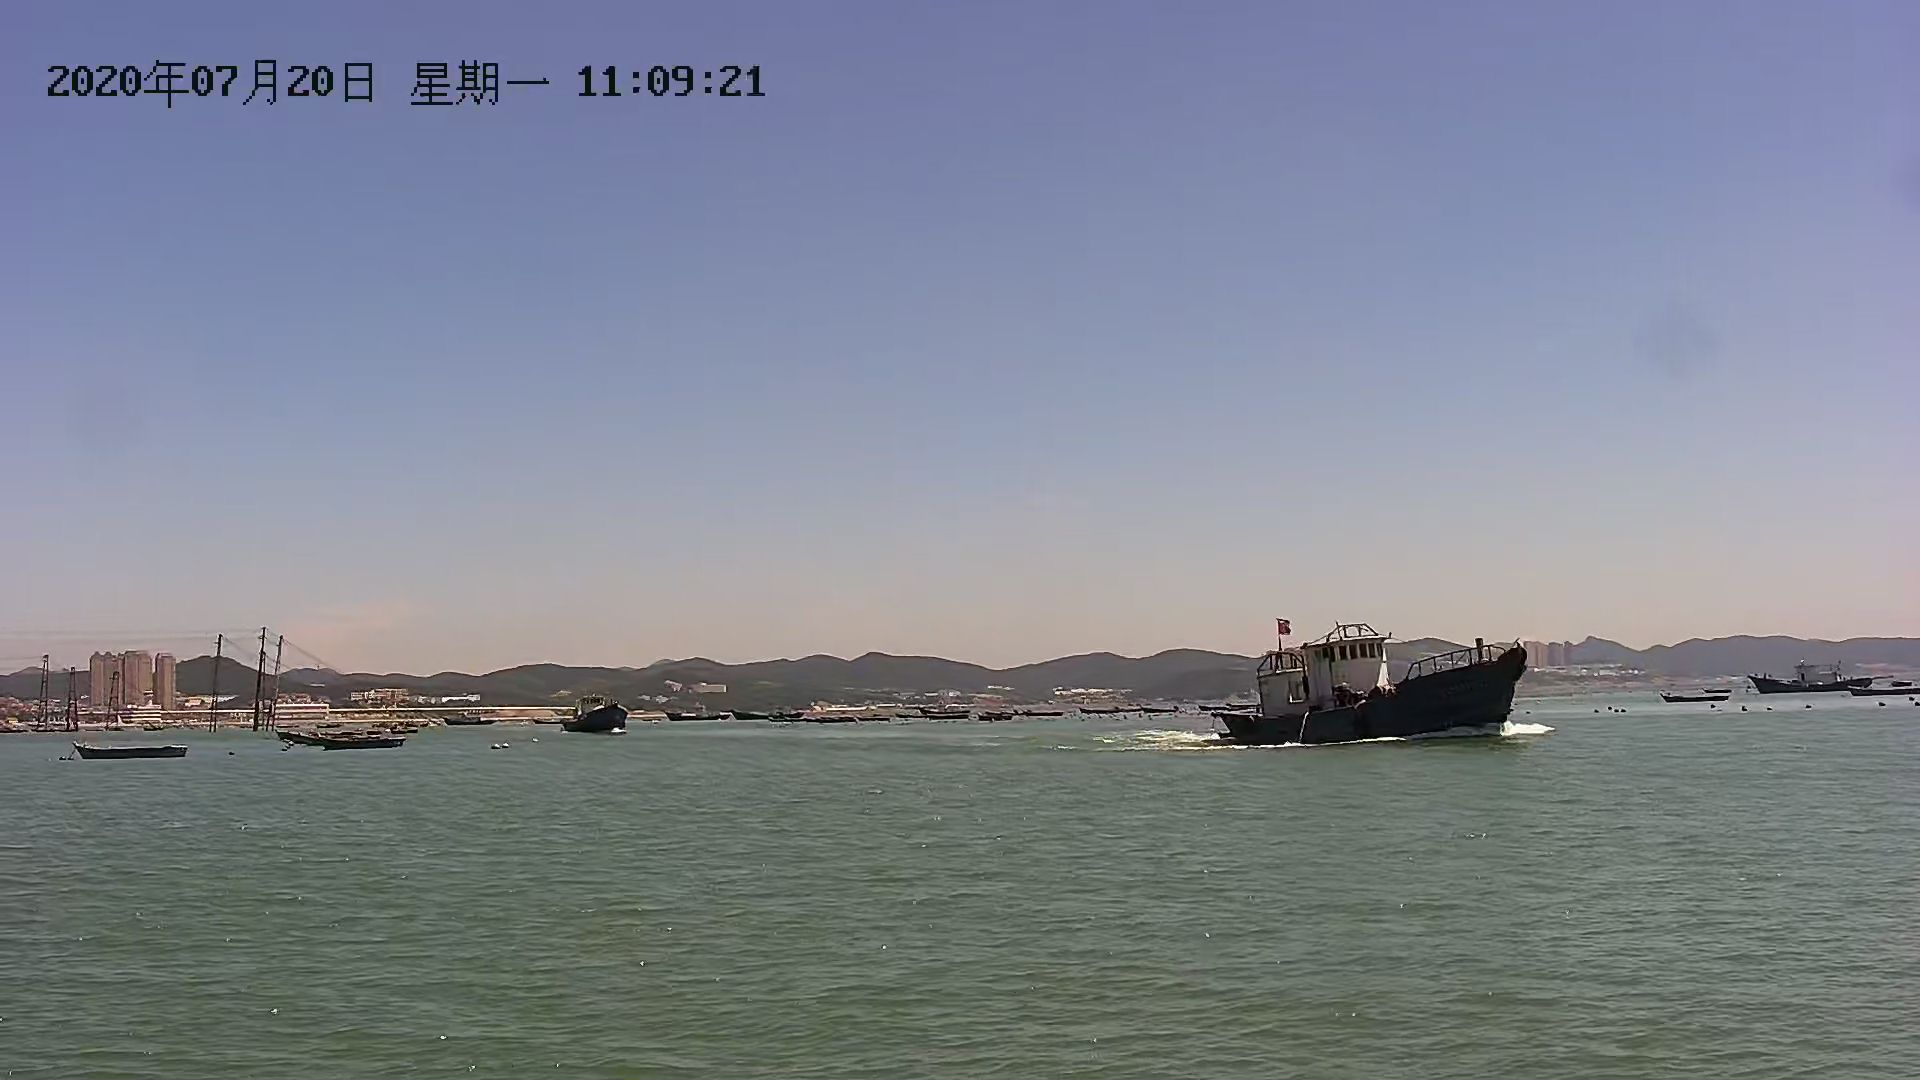boat: (69, 735, 199, 764), (318, 731, 410, 754), (266, 725, 367, 746), (1847, 680, 1920, 702), (1662, 687, 1734, 705)
mast: (59, 659, 90, 736), (208, 629, 228, 738), (268, 626, 285, 744), (251, 625, 266, 736), (33, 651, 53, 731)
ship: (1212, 640, 1539, 746), (1749, 661, 1873, 698), (556, 694, 640, 741)
